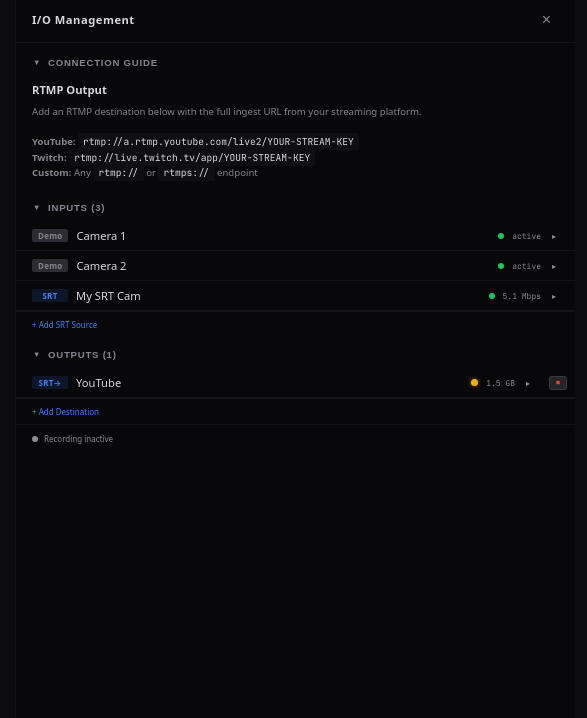
Scenario: IOPanel › shows SRT-specific stats in expanded SRT row
# Click to expand
Click the button with class "row-header" showing "SRT My SRT Cam 5.1 Mbps ▸" at [50, 296], box [16, 281, 575, 310]
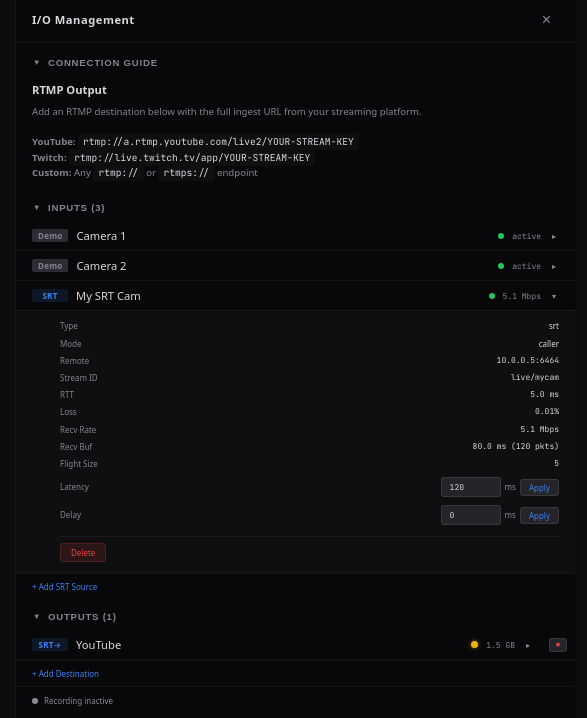
Check: the element with class "source-row" shows "Mode", box [60, 338, 82, 349]
Check: the element with class "source-row" shows "caller", box [539, 338, 559, 349]
Check: the element with class "source-row" shows "Latency", box [60, 482, 89, 492]
